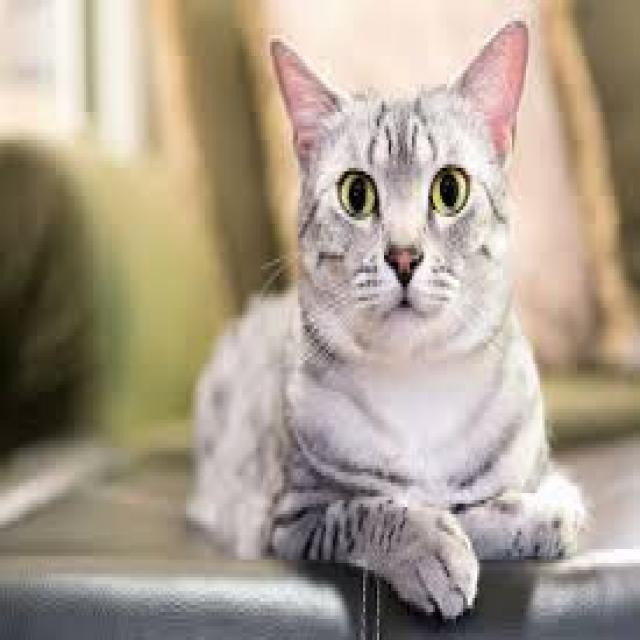Cat: (184, 12, 584, 622)
